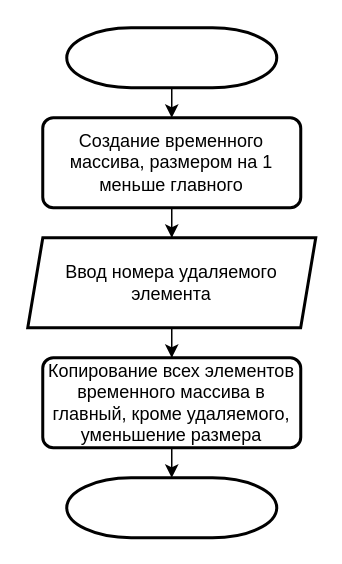
This 342x564 diagram has some shape labels left out. Each missing label, with the centre of its shape:
"Конец" goes at pixel 171 507.
"Начало" goes at pixel 171 57.
